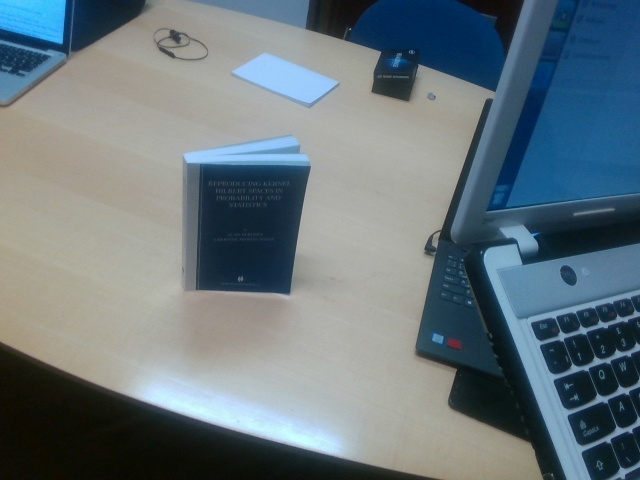book: (184, 138, 310, 296)
